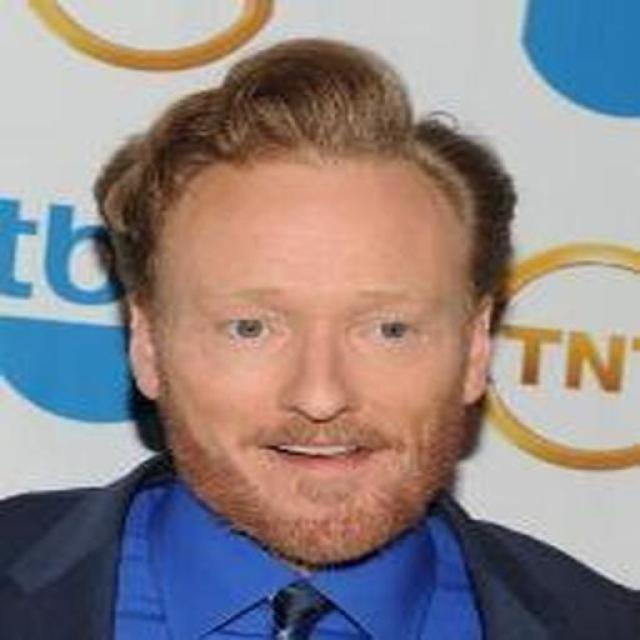bareface: (116, 112, 476, 528)
